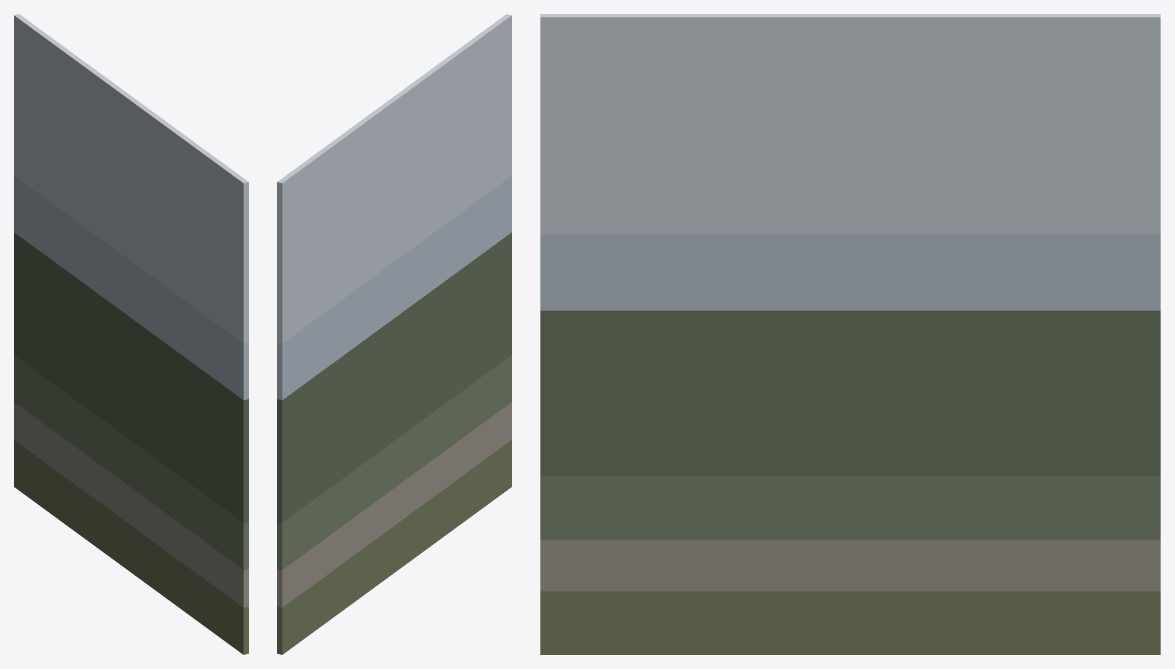
The picture shows the model from 3 angles, left to right: view 1: azimuth 30°, elevation 25°; view 2: azimuth 150°, elevation 25°; view 3: azimuth 270°, elevation 25°; orthographic projection. The views are drawn at different scales.
Parts seen in each view (by area): view 1: root; view 2: root; view 3: root.
Boxes of the visible parts, left/top/right/bottom form: root: left=14, top=14, right=248, bottom=654; root: left=277, top=14, right=511, bottom=654; root: left=540, top=14, right=1160, bottom=654.
Size of the model in its own units: 0.0244 by 2.07 by 1.83.
